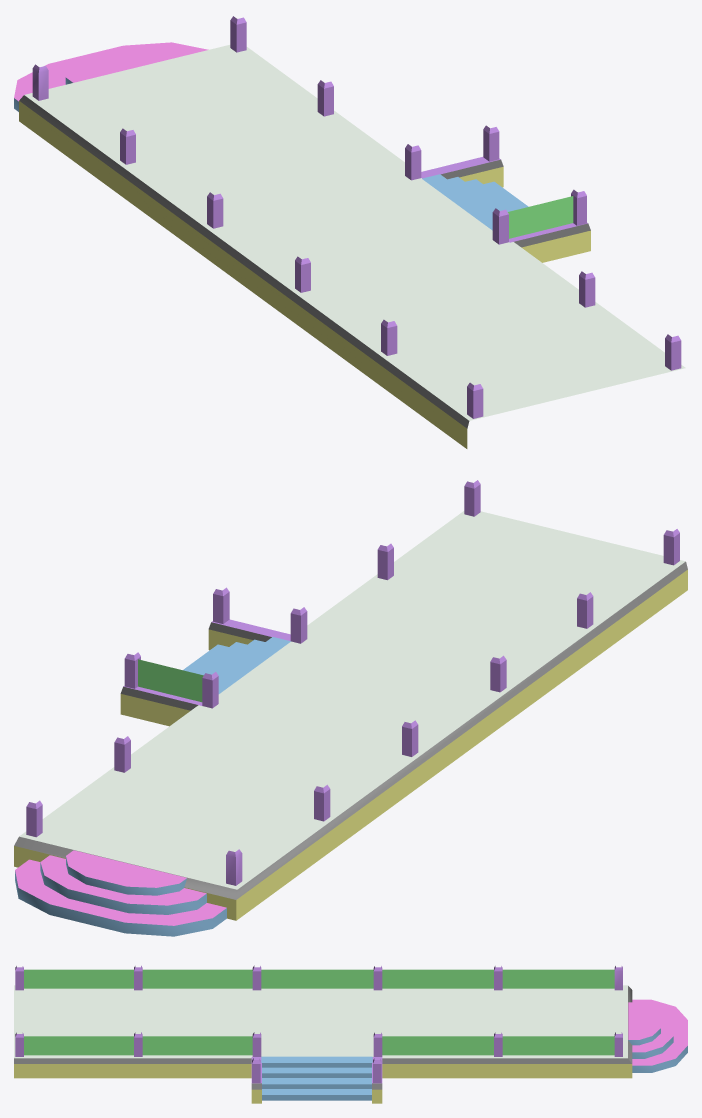
Rendered from O_E_GDS_Ent.gltf.
3 renders of one model, top to bottom at view 1: azimuth 30°, elevation 25°; view 2: azimuth 150°, elevation 25°; view 3: azimuth 270°, elevation 25°, orthographic. The views are drawn at different scales.
Visible parts, largest first — view 1: O_E_GDS_Ent; view 2: O_E_GDS_Ent; view 3: O_E_GDS_Ent.
Part boxes in pixels (x1=…): O_E_GDS_Ent: x1=14, y1=16, x2=685, y2=448; O_E_GDS_Ent: x1=14, y1=480, x2=687, y2=936; O_E_GDS_Ent: x1=14, y1=965, x2=687, y2=1103.
Size of the model in its own units: 3.15 by 0.6147 by 9.
